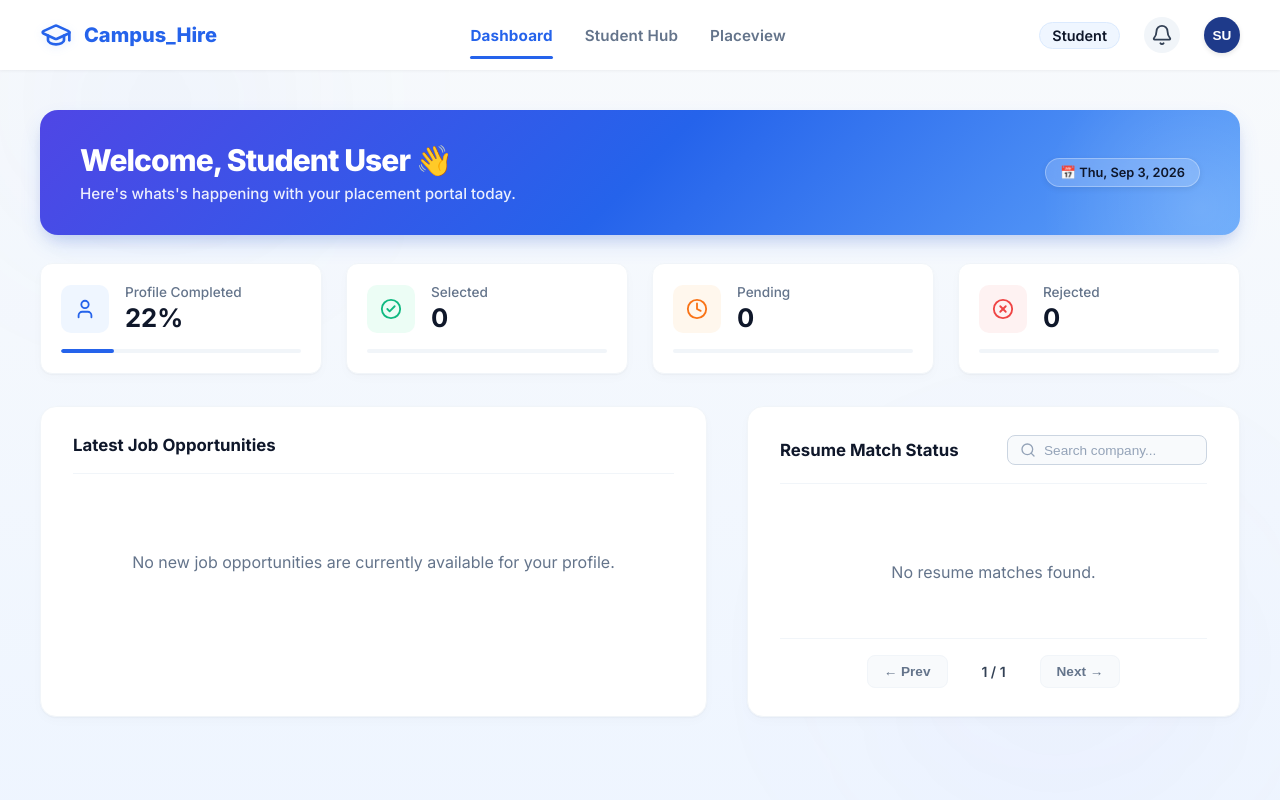
Test case: StudentDashboard Component › renders student notifications with correct formatted timestamp without timezone shifting
Click the button named "notifications": [1162, 35] box top-left (1144, 17), bottom-right (1180, 53)
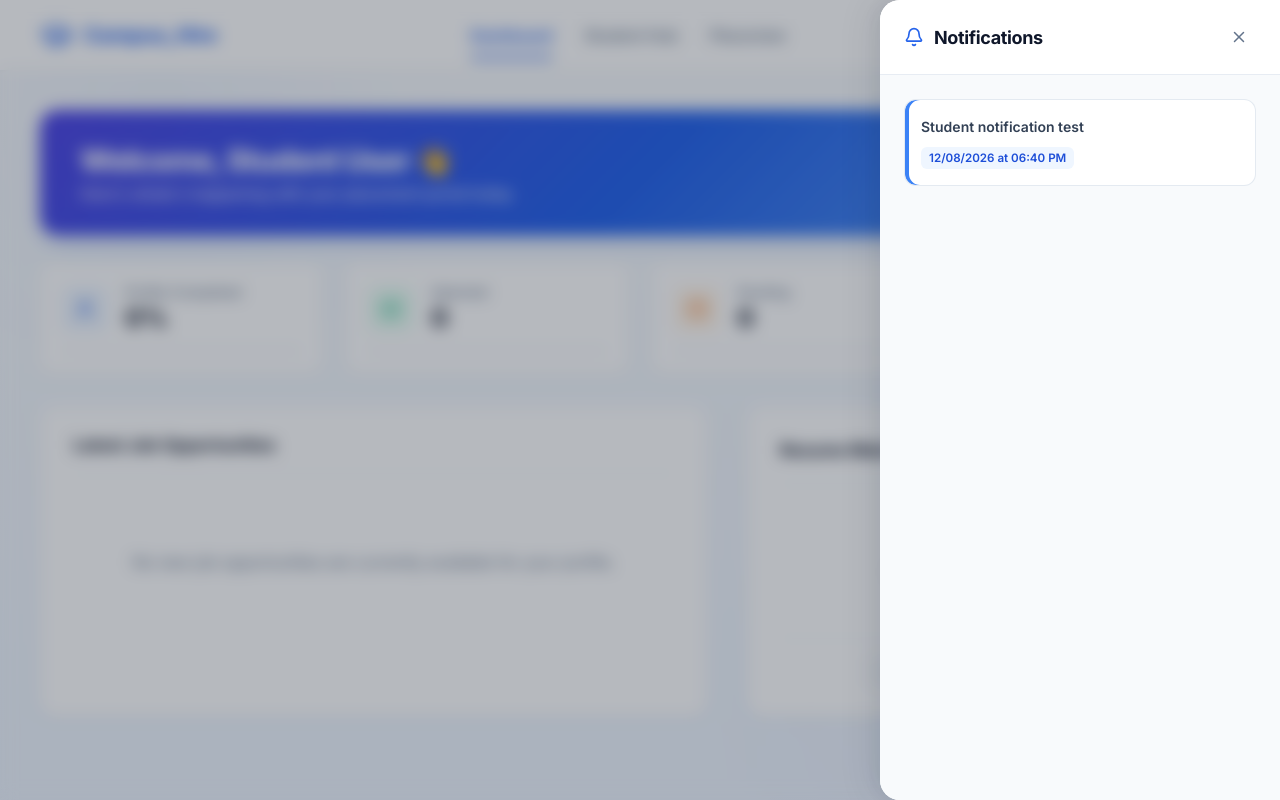
Now the text "Student notification test" is shown, box top-left (921, 118), bottom-right (1084, 135)
Now the text "12/08/2026 at 06:40 PM" is shown, box top-left (921, 147), bottom-right (1074, 169)
